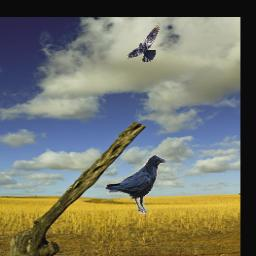Crow: (104, 154, 166, 214), (125, 22, 160, 63)
